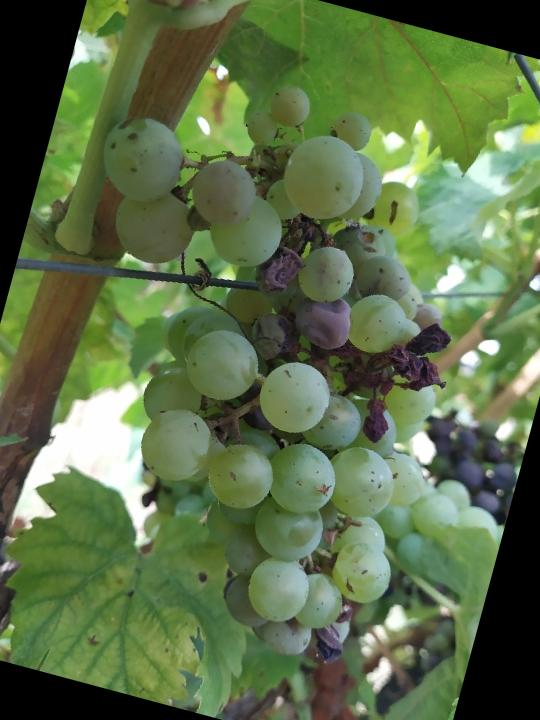grape: (0, 38, 516, 682)
